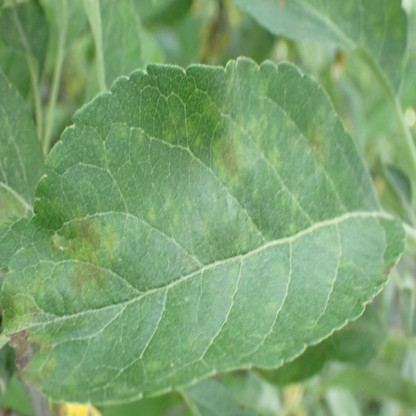scab: (0, 273, 58, 390), (67, 211, 119, 291), (214, 133, 244, 183), (306, 107, 329, 163), (166, 108, 200, 143), (248, 113, 268, 150), (249, 64, 269, 98), (91, 137, 112, 167), (378, 256, 397, 279), (110, 379, 139, 394), (268, 340, 294, 356), (181, 247, 199, 269), (267, 140, 280, 166), (199, 214, 210, 242), (145, 201, 157, 222), (144, 359, 161, 373), (163, 188, 172, 209), (117, 123, 128, 140), (135, 128, 145, 145), (285, 221, 297, 235), (170, 209, 178, 229), (183, 197, 192, 213)
